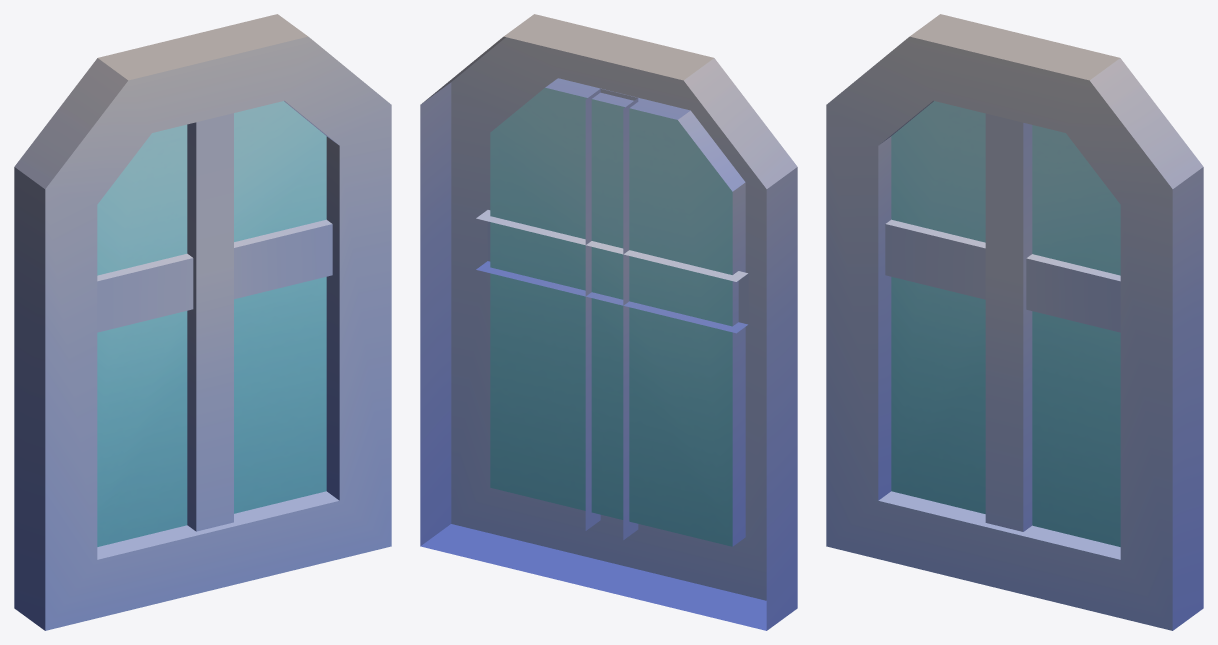
The model's file is Window_06B.fbx.
3 renders of one model, left to right at view 1: azimuth 30°, elevation 25°; view 2: azimuth 150°, elevation 25°; view 3: azimuth 330°, elevation 25°, orthographic.
Parts seen in each view (by area): view 1: Window_06B; view 2: Window_06B; view 3: Window_06B.
Part boxes in pixels (x1=…): Window_06B: x1=14, y1=14, x2=391, y2=630; Window_06B: x1=420, y1=14, x2=797, y2=630; Window_06B: x1=826, y1=14, x2=1203, y2=630.
Bounding box in the file's own units: 144 × 210 × 22.16.
Materials: 2 (2 with a texture image).
